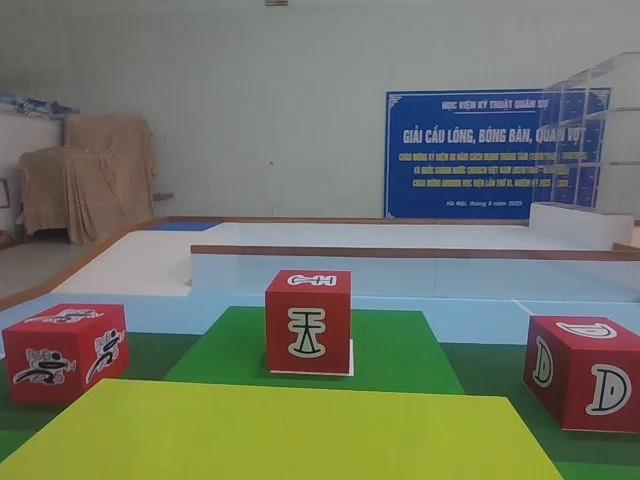R1: (4, 302, 131, 402)
R2 Real: (523, 311, 640, 433), (266, 269, 352, 376)
